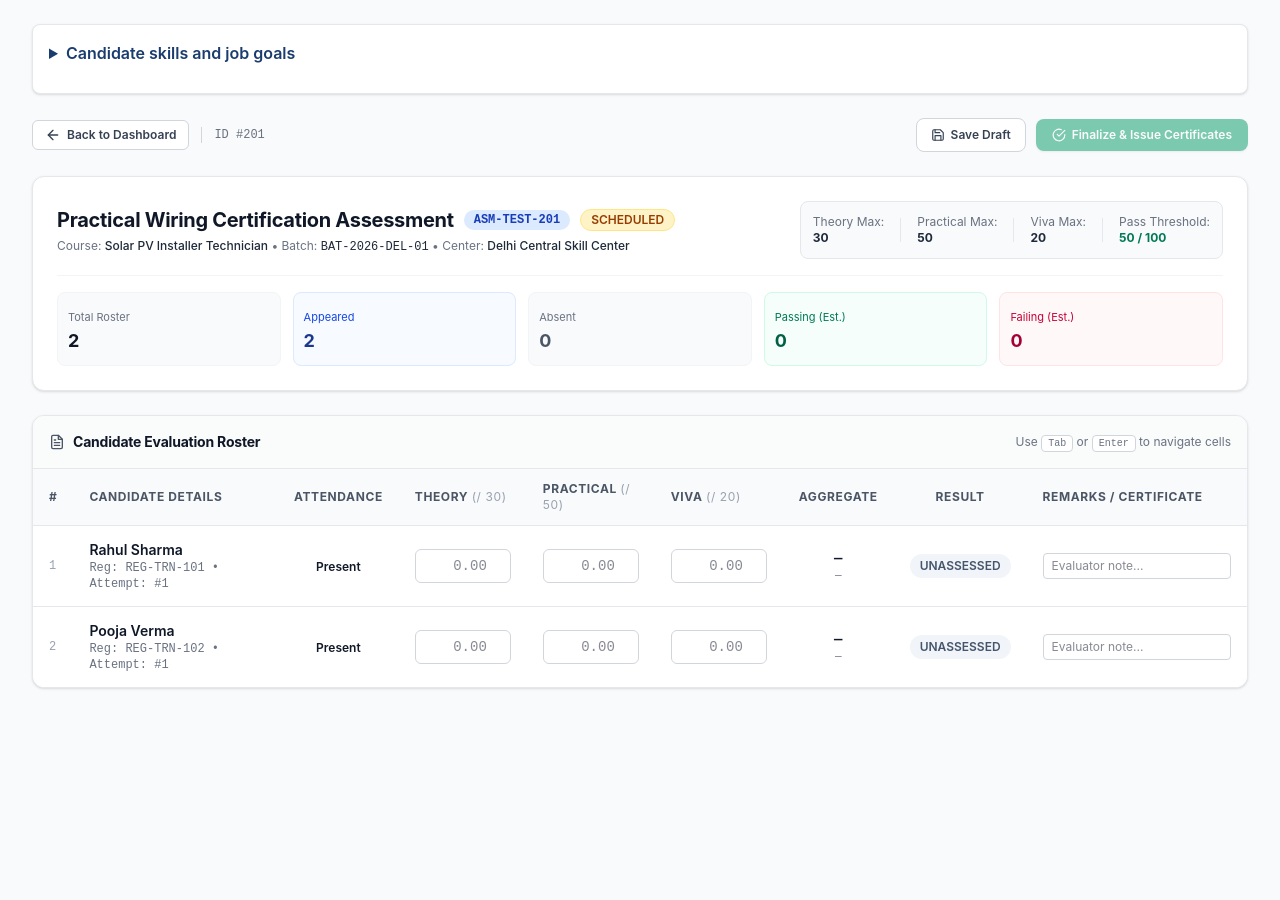
Test: AssessorScoringPage Component › flags out-of-bounds scores and shows inline validation error
Check: the text "Rahul Sharma" is shown, box [89, 541, 183, 558]
In the 1st number field with placeholder "0.00": (463, 566) [415, 549, 511, 583], type "35.00"
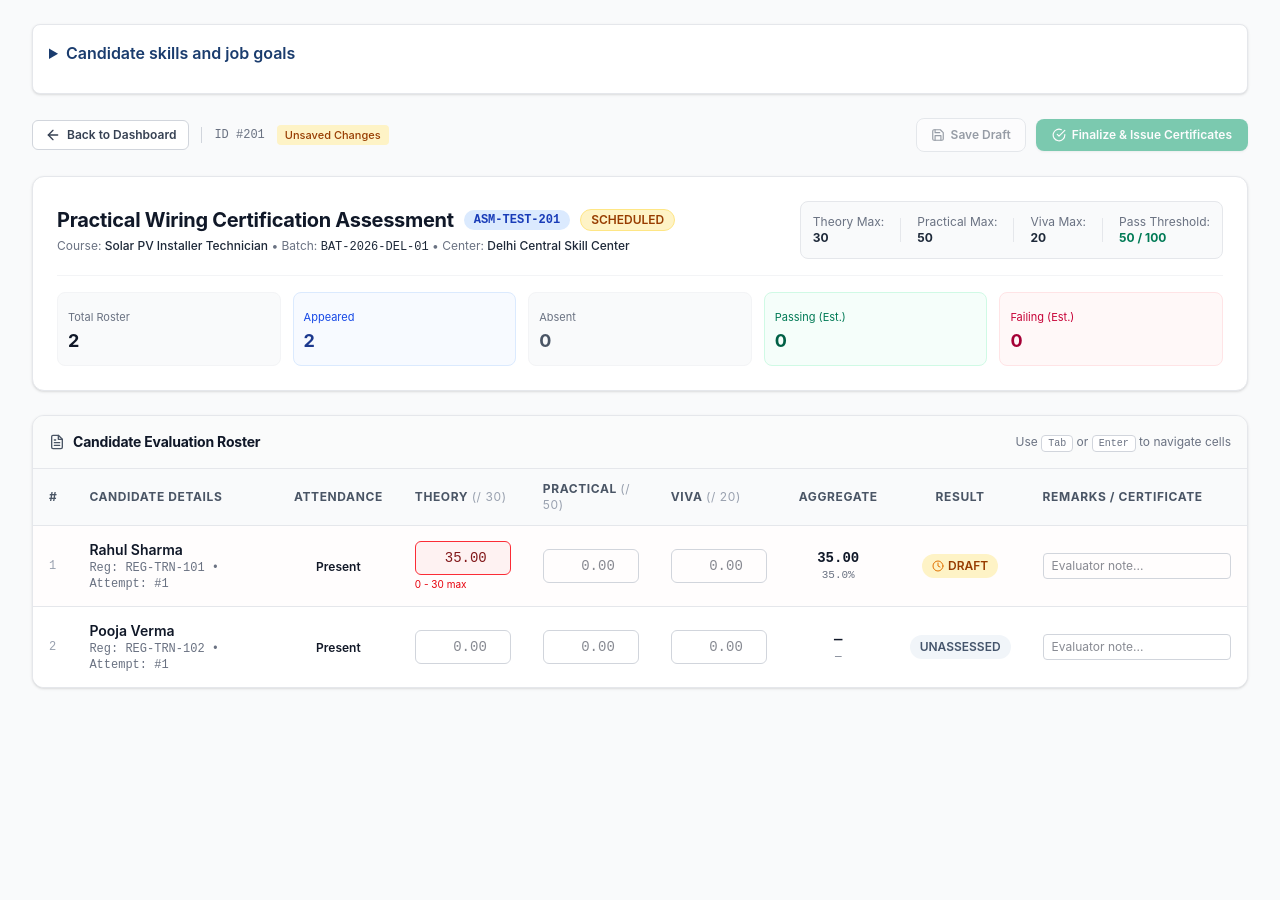
Check: the text "0 - 30 max" is shown, box [415, 578, 466, 590]
